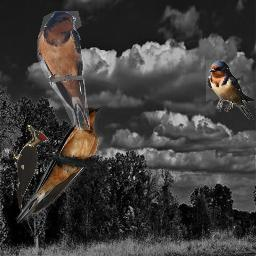Swallow: (13, 104, 104, 223), (37, 11, 90, 130), (206, 60, 254, 121)
Woodpecker: (8, 125, 48, 212)
